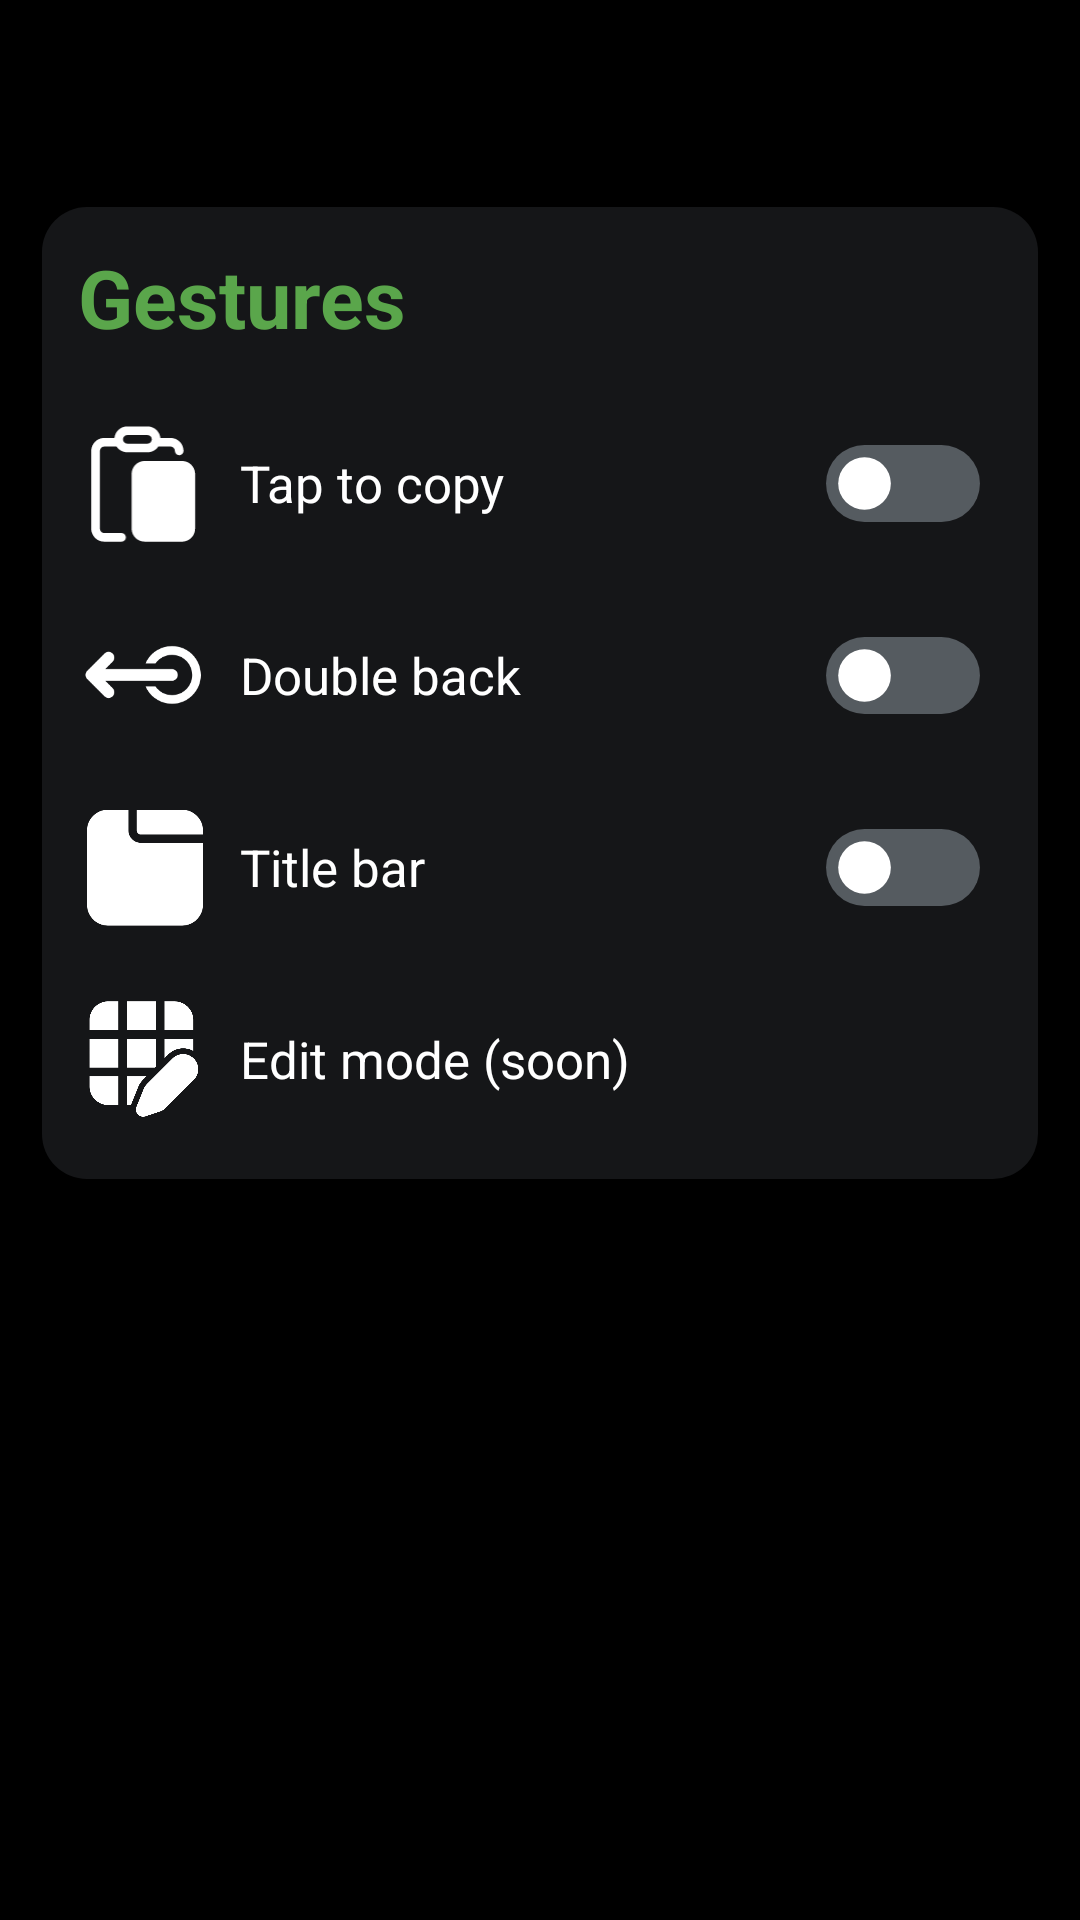

Point at icon controls on the screen. Image size 1080x1920, points as point (x, y).
clipboard vct: point (143, 484)
editmode vct: point (143, 1059)
swipside vct: point (143, 675)
